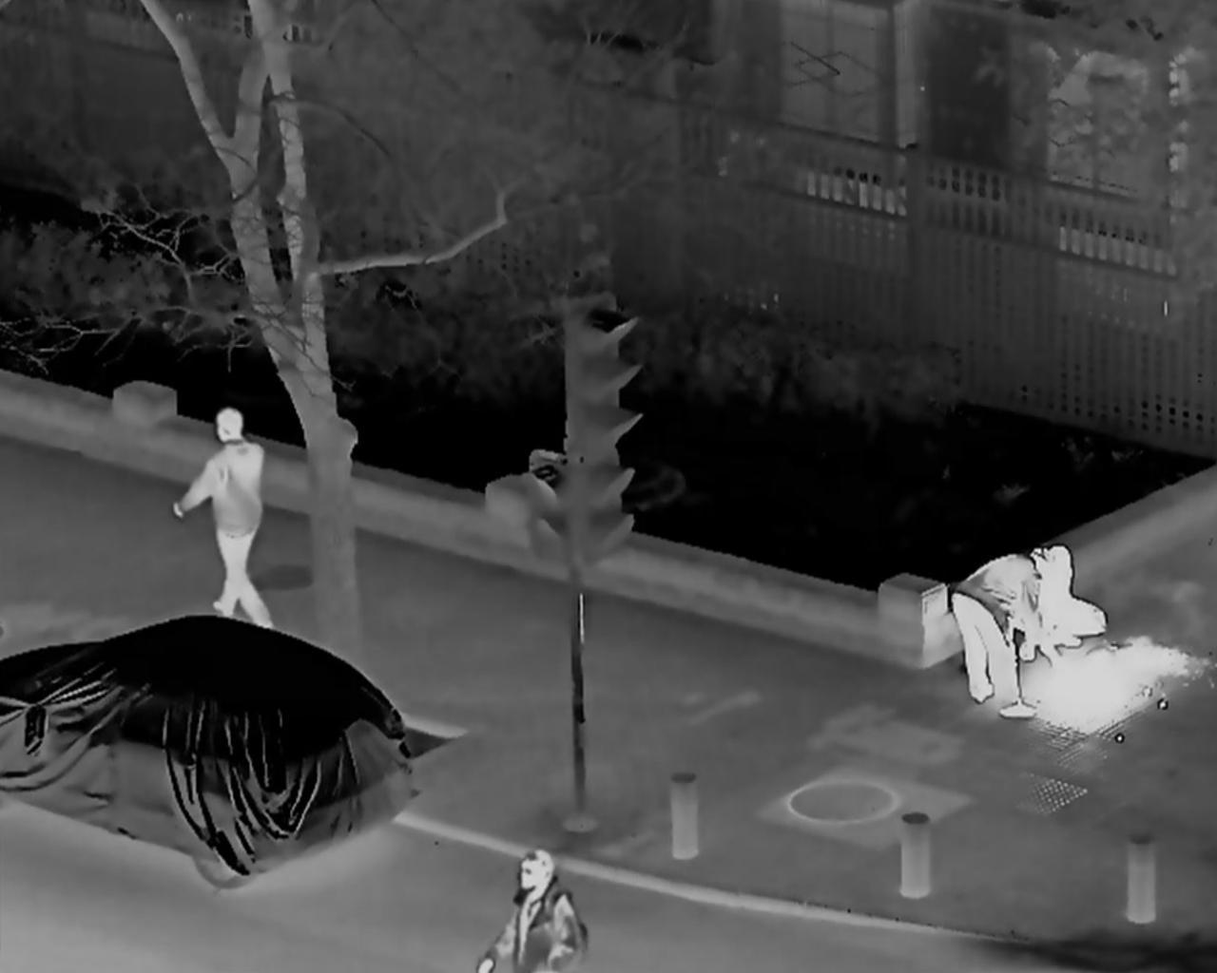person: (170, 407, 275, 639), (946, 550, 1049, 724), (472, 852, 588, 973), (1016, 543, 1108, 669)
